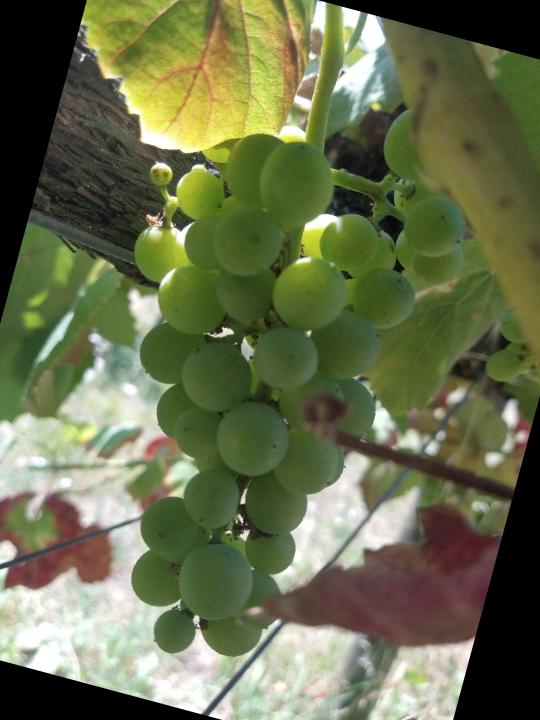grape: (26, 48, 497, 705)
